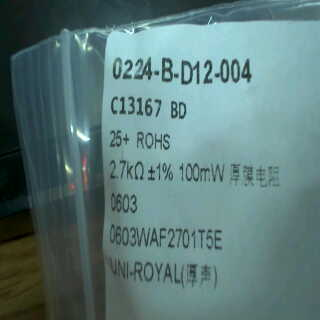2.7kR: (106, 154, 147, 184)
